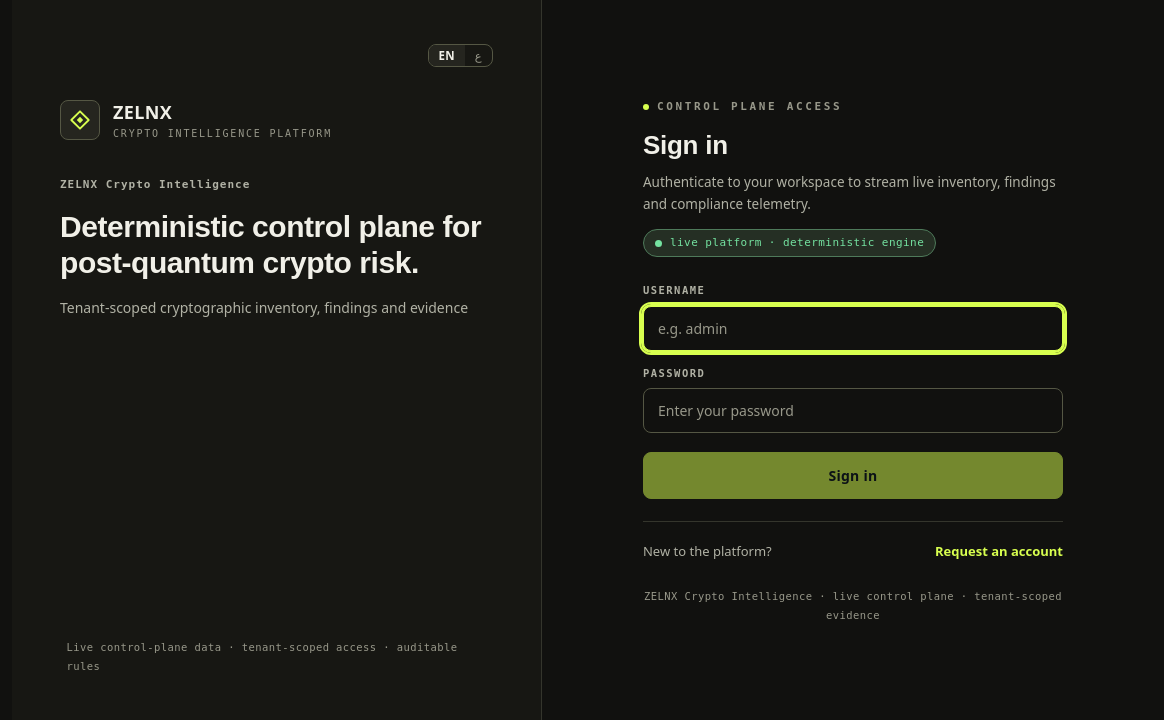
login to authenticated workspace › stays at login when the server cannot verify the new session
Type "operator" into the field labelled "Username" at (853, 328), box [643,306,1063,351]
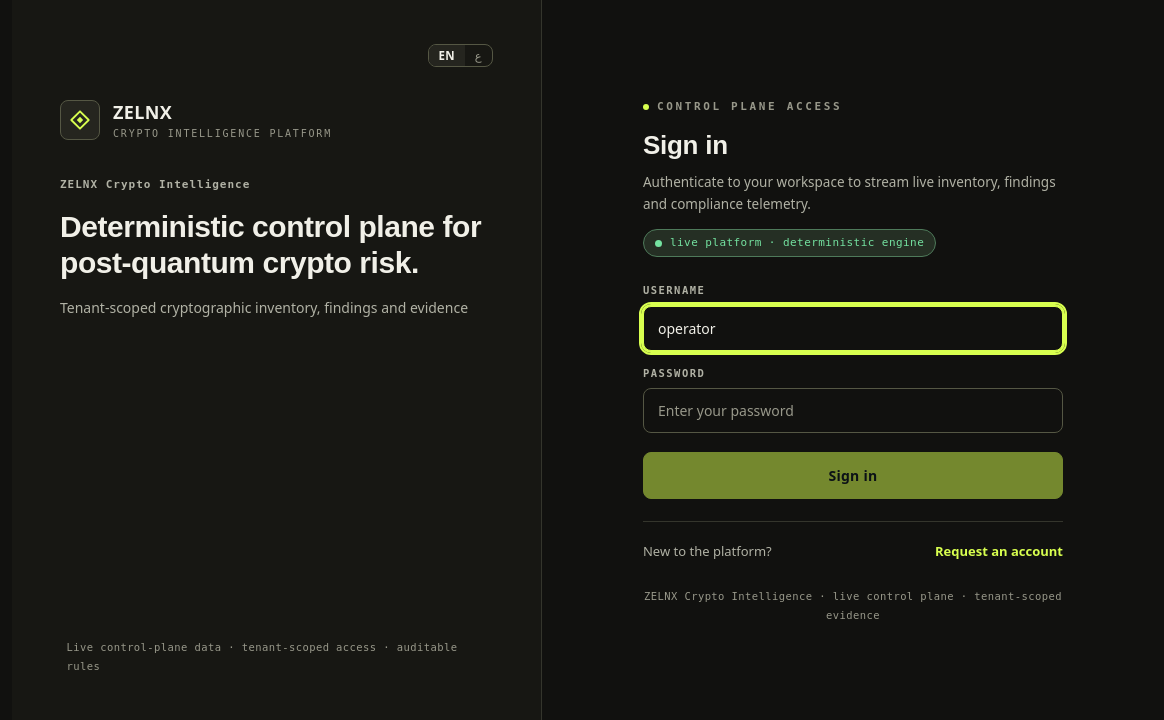
Type "strong-credential" into the password field labelled "Password" at (853, 410), box [643,388,1063,433]
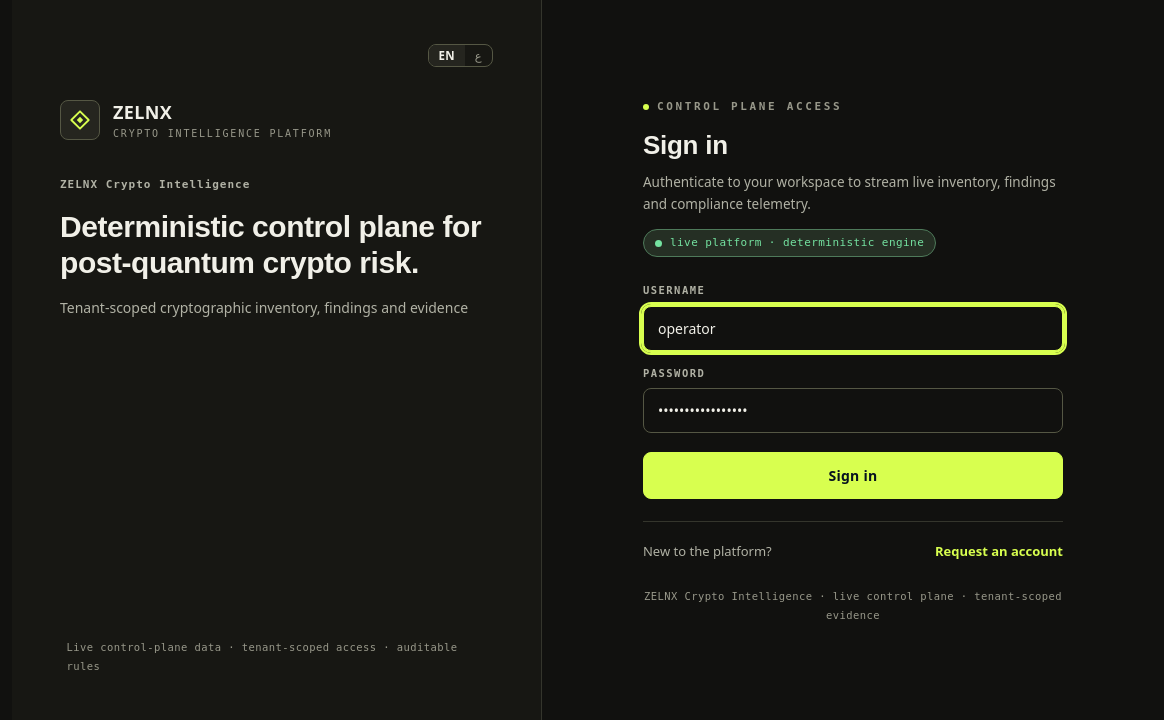
Click the button "Sign in" at (853, 475), box [643,452,1063,499]
(page scrolled)
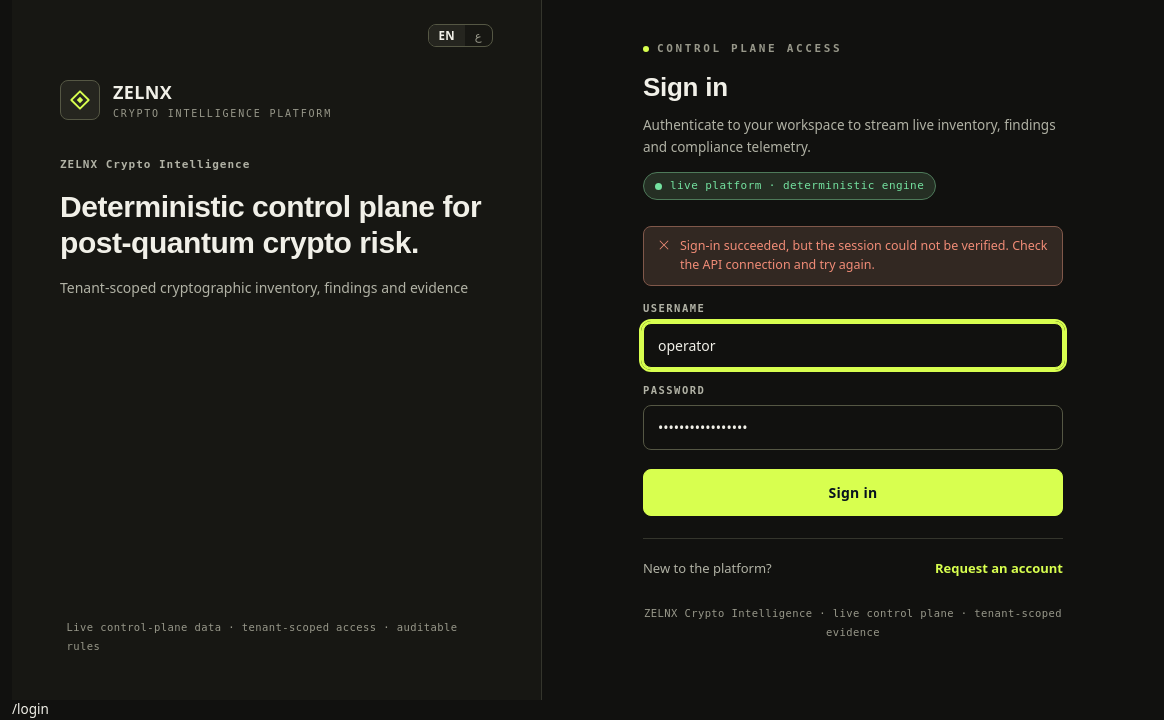
Expected: the text with test id "path" reads "/login", [12,700,49,718]
Expected: the message shows "session could not be verified", [680,237,1048,273]
